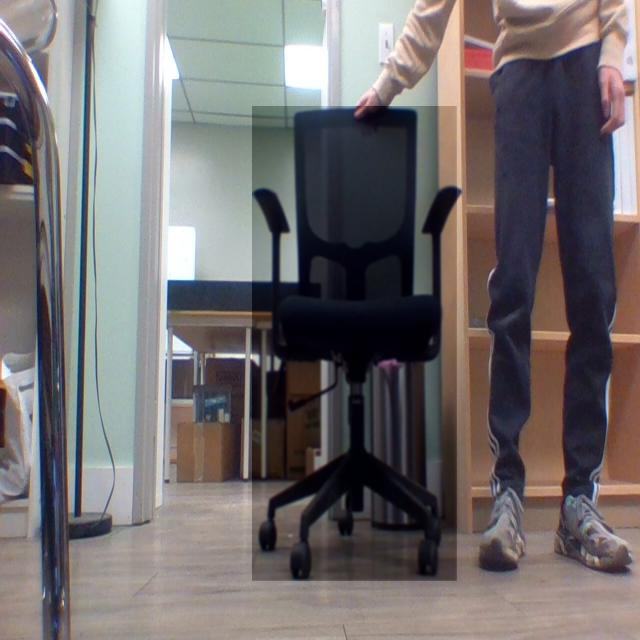black-chair: (252, 106, 458, 582)
